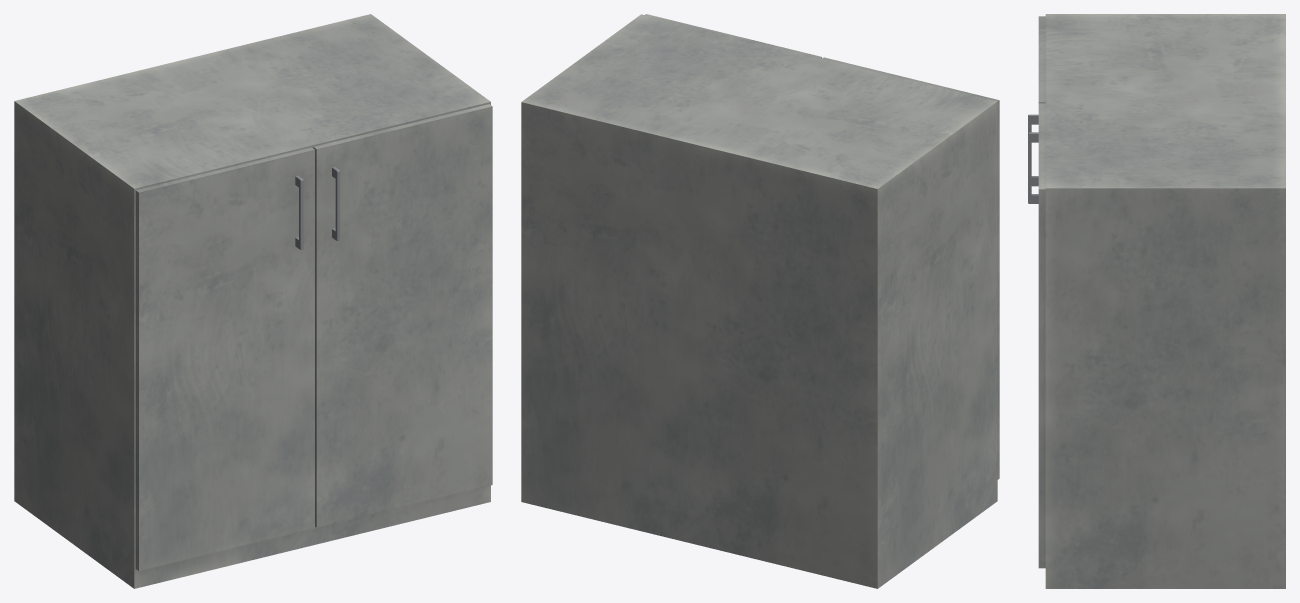
File: Storage.fbx
3 views of the same model, side by side, from view 1: azimuth 30°, elevation 25°; view 2: azimuth 150°, elevation 25°; view 3: azimuth 270°, elevation 25° (orthographic).
Visible parts, largest first — view 1: Storage; view 2: Storage; view 3: Storage.
Boxes of the visible parts, bbox=[...] form: Storage: bbox=[14, 14, 492, 588]; Storage: bbox=[521, 14, 999, 588]; Storage: bbox=[1028, 14, 1285, 588].
Bounding box in the file's own units: 78.86 × 84.52 × 49.29.
1 material, 1 textured.
